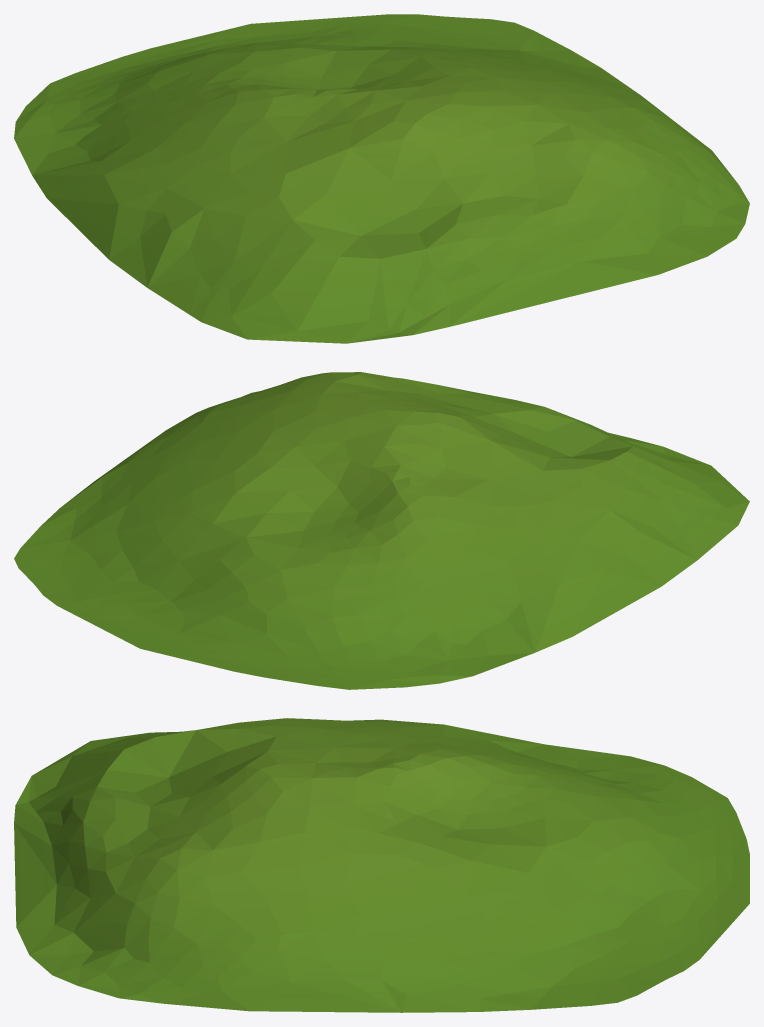
Rendered from Hill_02.fbx.
3 renders of one model, top to bottom at view 1: azimuth 30°, elevation 25°; view 2: azimuth 150°, elevation 25°; view 3: azimuth 270°, elevation 25°, orthographic. The views are drawn at different scales.
Visible parts, largest first — view 1: Hill_02; view 2: Hill_02; view 3: Hill_02.
Part boxes in pixels (bbox=[...]): Hill_02: bbox=[14, 14, 749, 343]; Hill_02: bbox=[14, 372, 749, 689]; Hill_02: bbox=[14, 718, 749, 1012].
Size of the model in its own units: 5728 by 924 by 6298.
